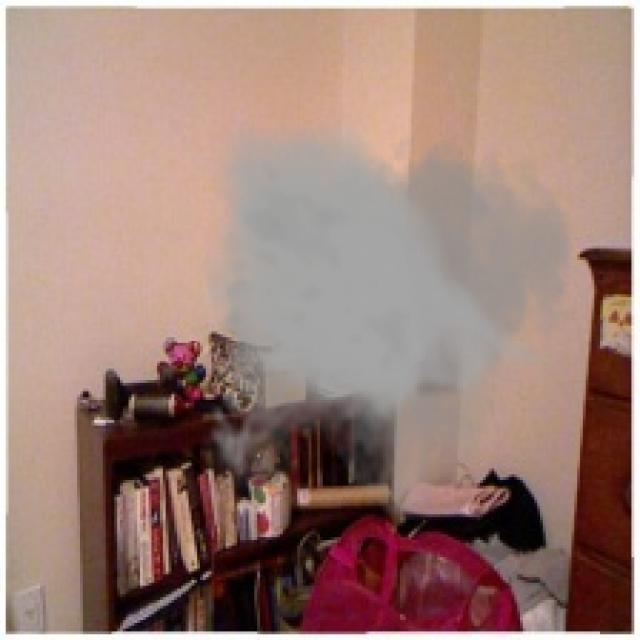Smoke: (197, 106, 577, 520)
